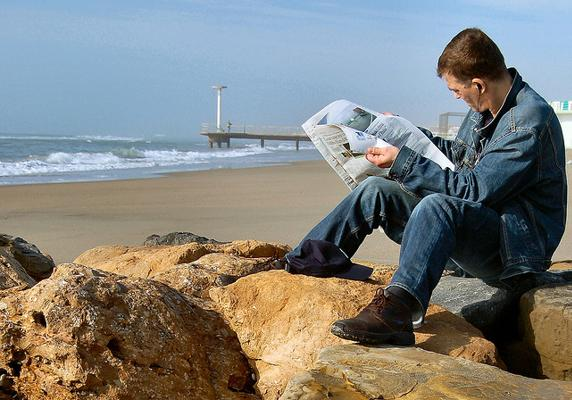person: (288, 26, 569, 348)
